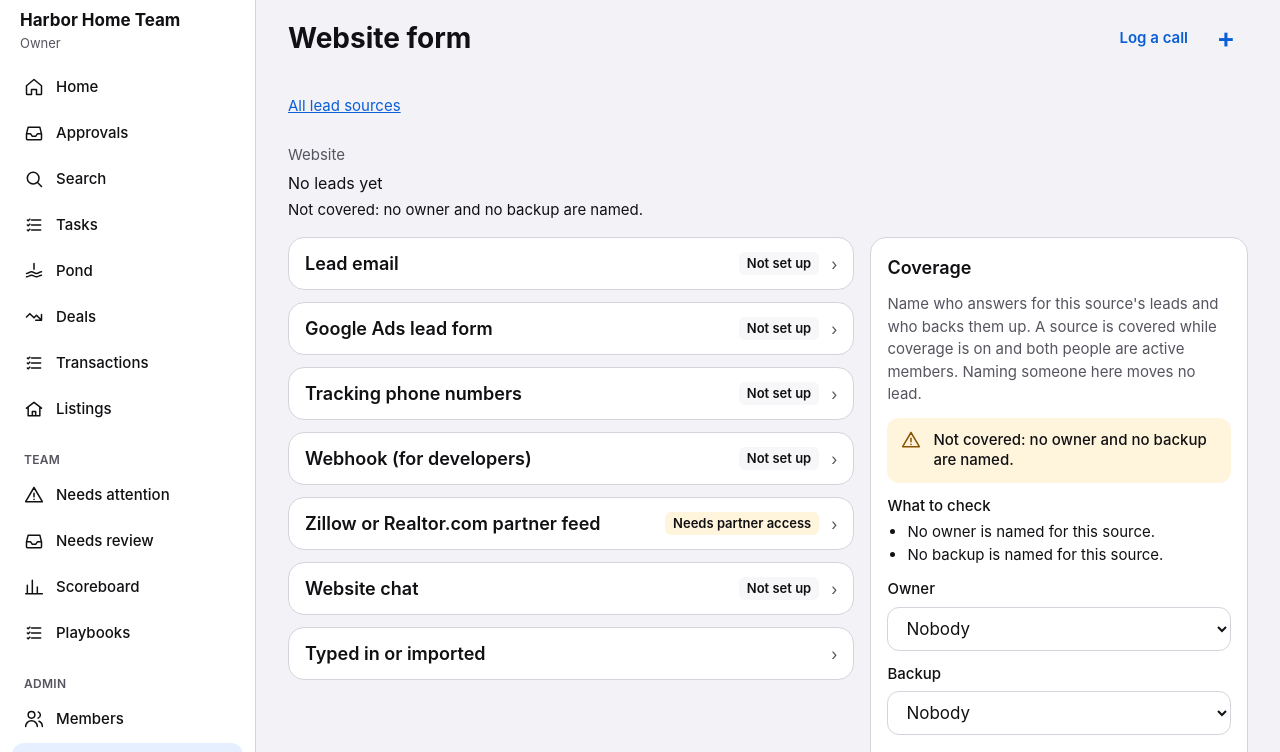
R-TEAMQ-10 R-TEAMQ-11 the Coverage card of one source › R-TEAMQ-10: a refused save says why in words, never a code
Select "Jordan P. (Agent)" in the dropdown labelled "Owner" at (1059, 629), box [887,607,1231,651]
(page scrolled)
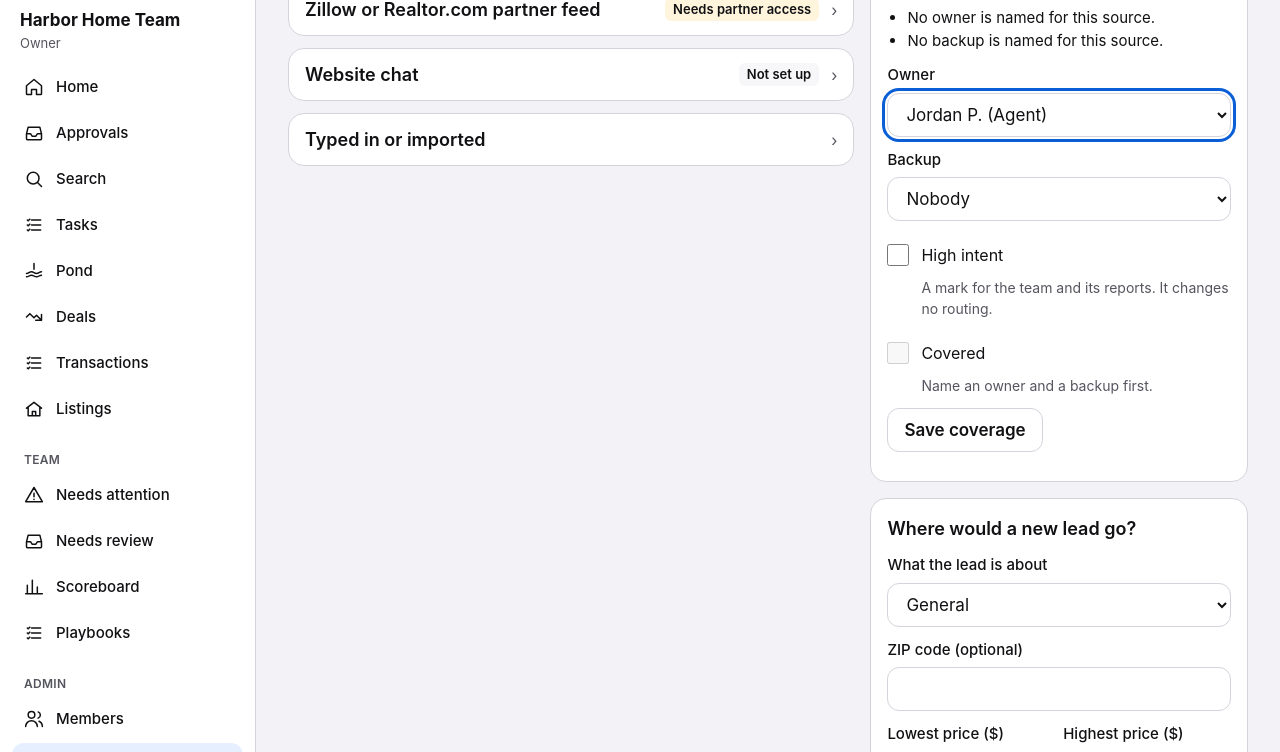
Click the button "Save coverage".
click(965, 430)  # box [887,408,1043,452]
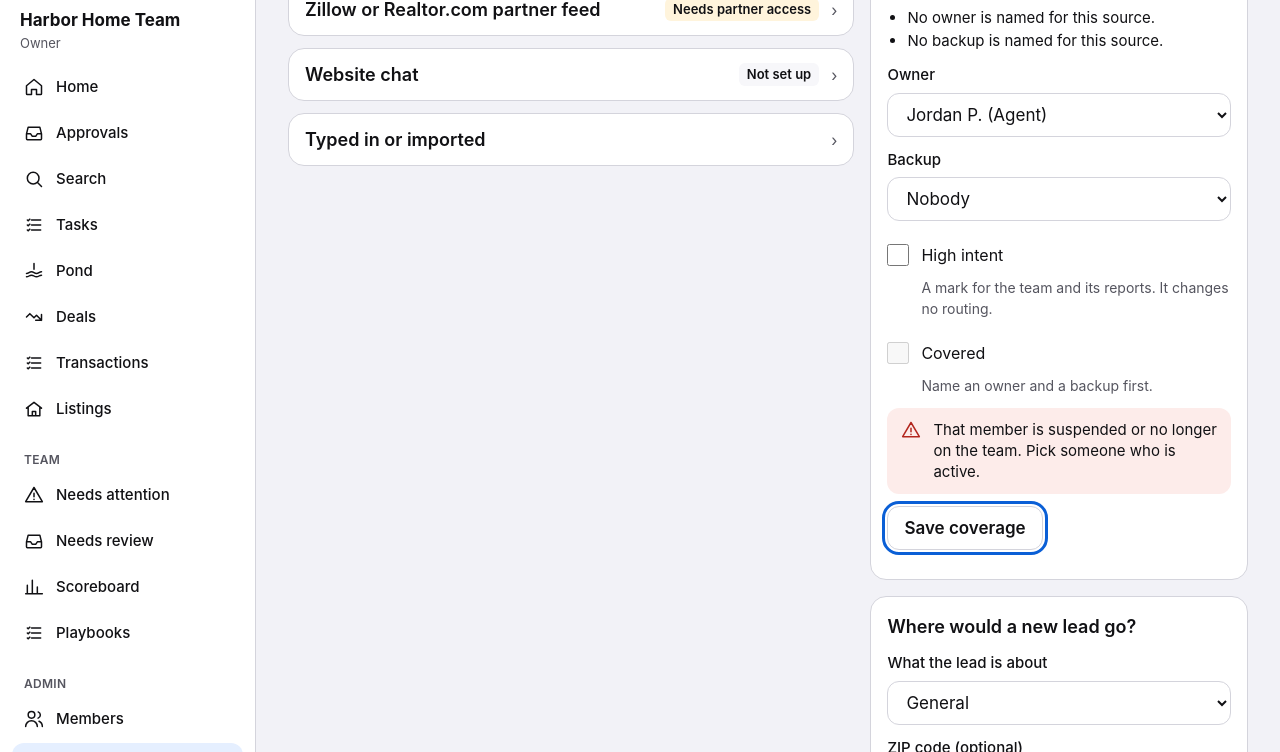
Check: the text "That member is suspended or no longer on the team. Pick someone who is active." is shown, box [933,420,1217,482]
